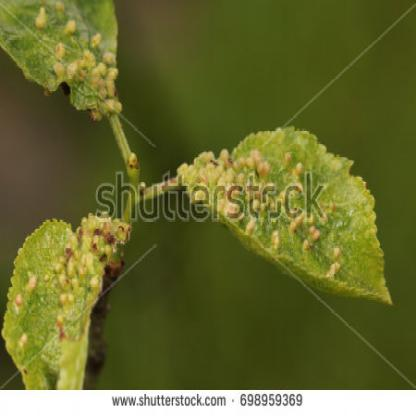apple rust leaf: (177, 138, 397, 317)
